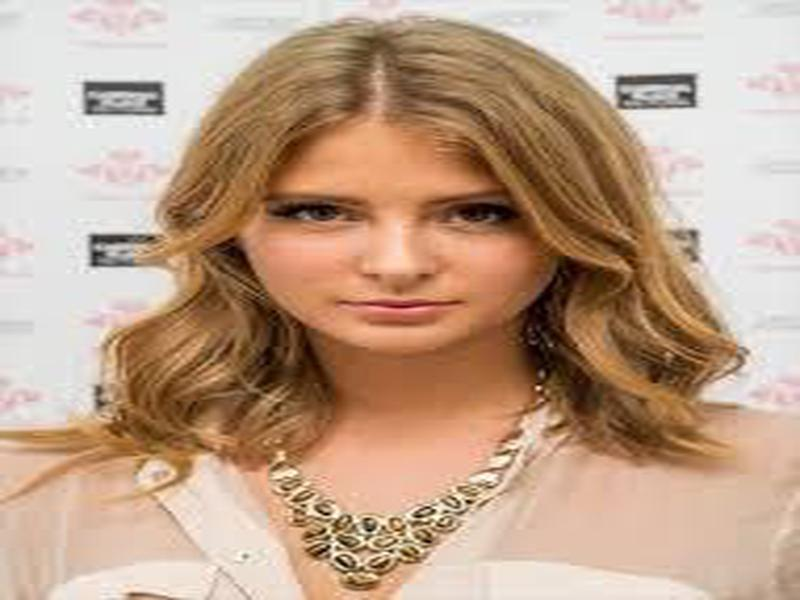without_mask: (238, 140, 557, 353)
